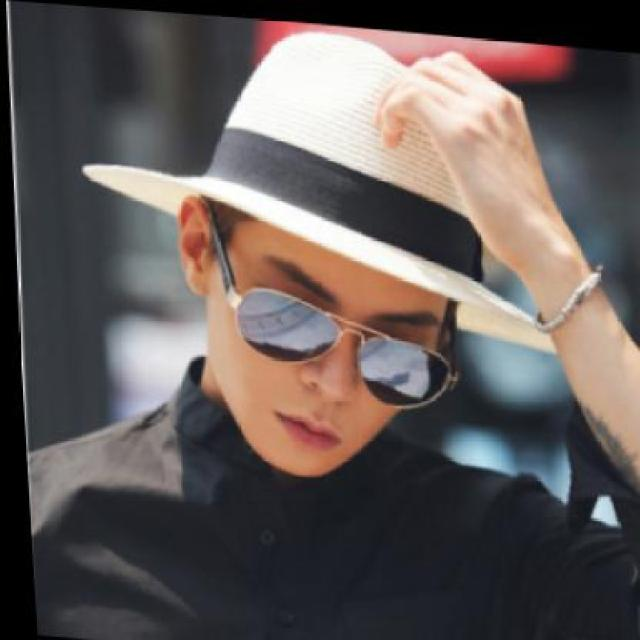hat: (59, 3, 566, 351)
